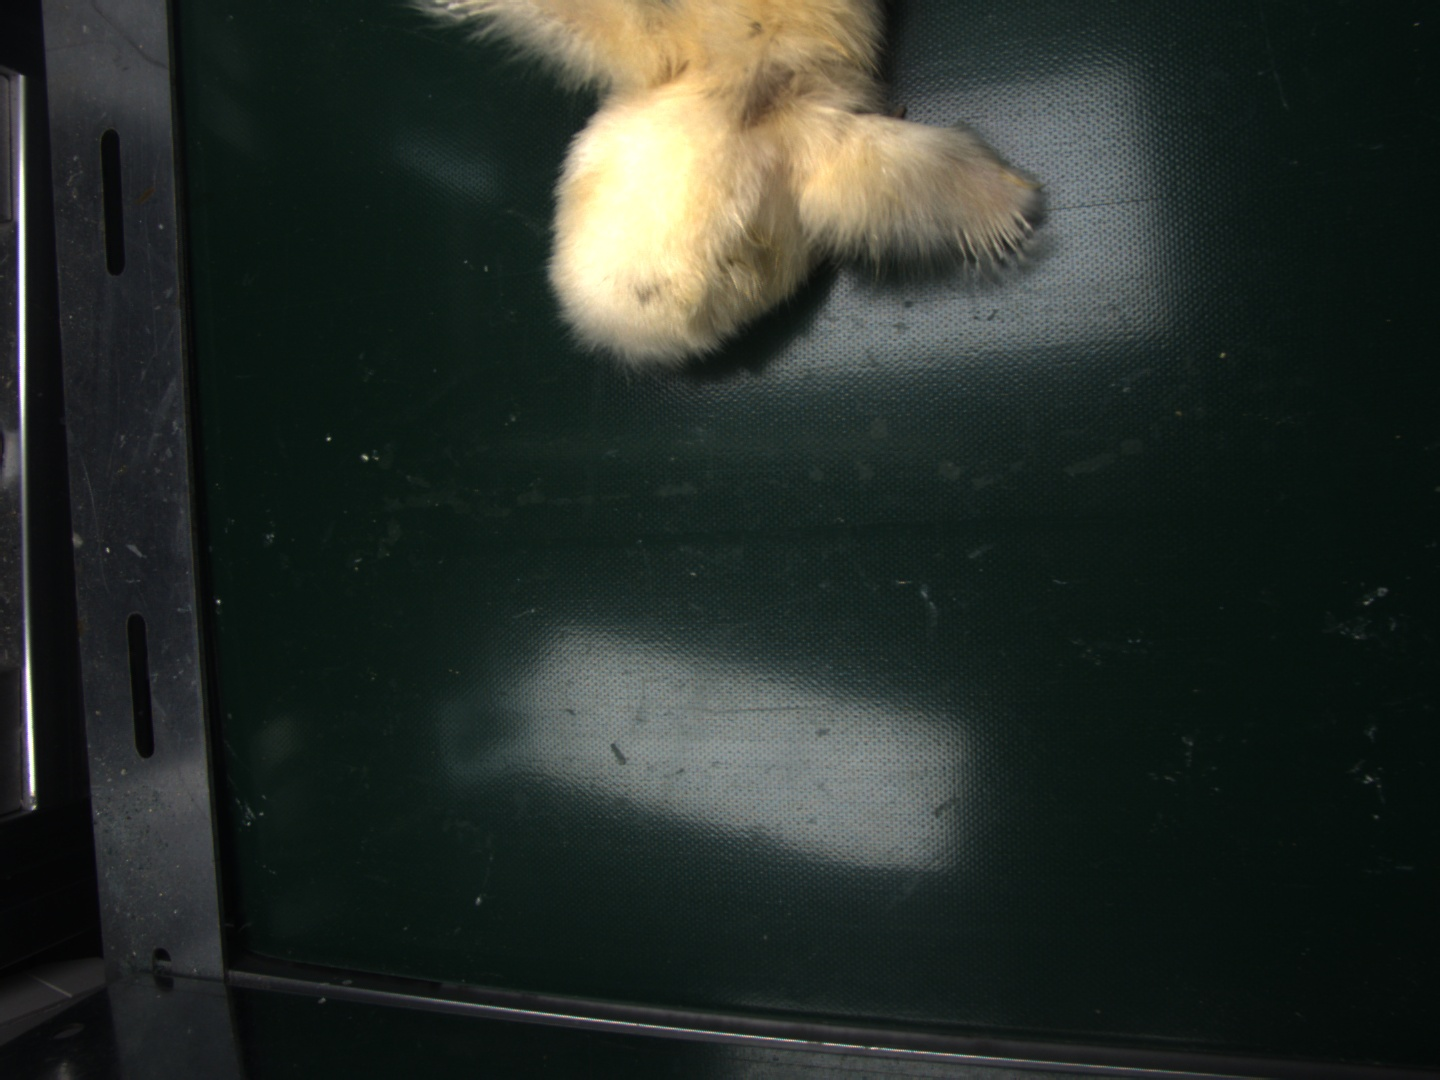male: (956, 201, 1037, 264)
